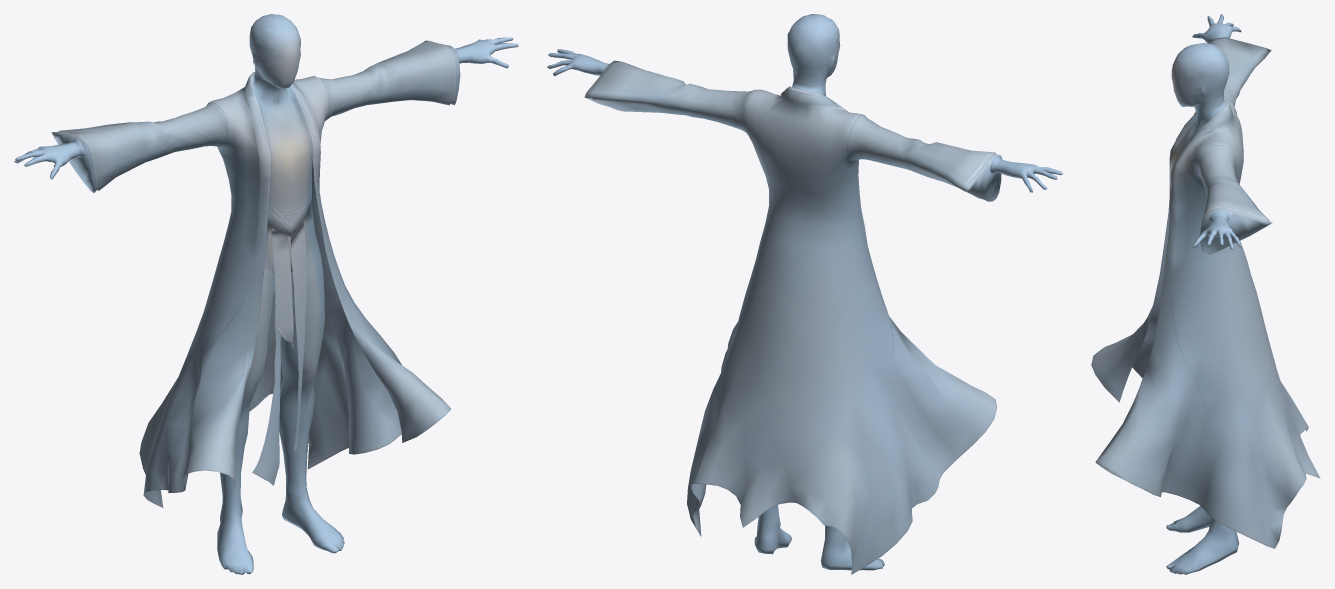
File: selected.glb
3 renders of one model, left to right at view 1: azimuth 30°, elevation 25°; view 2: azimuth 150°, elevation 25°; view 3: azimuth 270°, elevation 25°, orthographic. The views are drawn at different scales.
Visible parts, largest first — view 1: tripo_node_ad885f42-07c3-4c63-b079-89324c9c4a6c; view 2: tripo_node_ad885f42-07c3-4c63-b079-89324c9c4a6c; view 3: tripo_node_ad885f42-07c3-4c63-b079-89324c9c4a6c.
Boxes of the visible parts, bbox=[...] form: tripo_node_ad885f42-07c3-4c63-b079-89324c9c4a6c: bbox=[14, 14, 518, 574]; tripo_node_ad885f42-07c3-4c63-b079-89324c9c4a6c: bbox=[547, 14, 1062, 574]; tripo_node_ad885f42-07c3-4c63-b079-89324c9c4a6c: bbox=[1091, 14, 1320, 574].
Size of the model in its own units: 0.9746 by 0.998 by 0.4121.
Materials: 1 (1 with a texture image).
